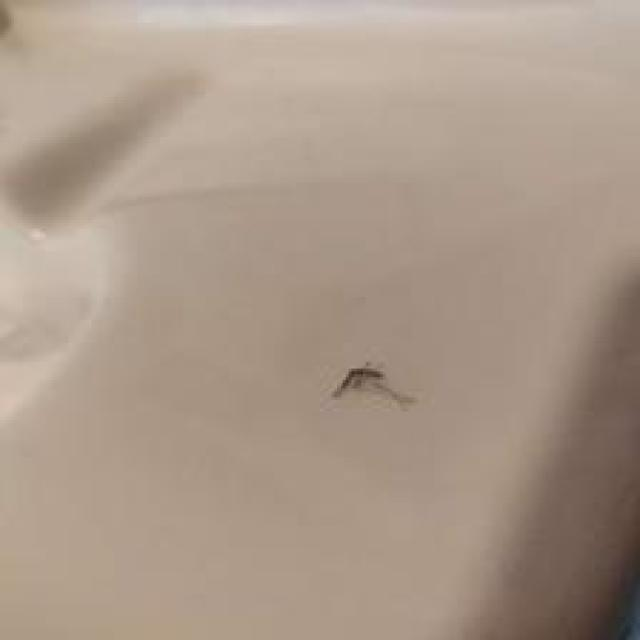Culex: (332, 360, 417, 411)
